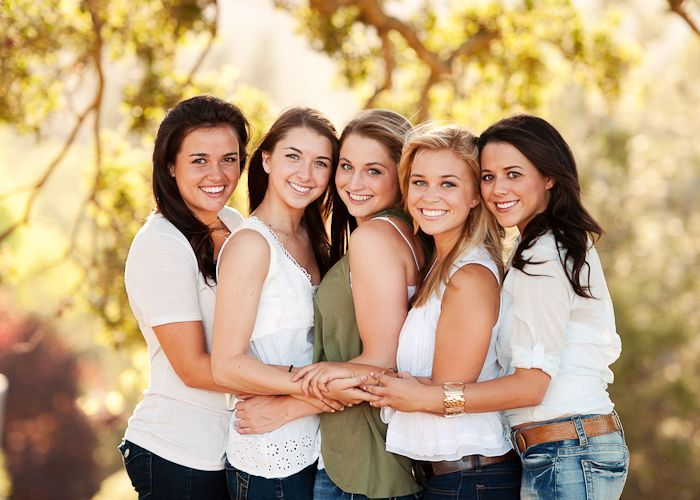bare: (266, 164, 329, 214), (173, 169, 240, 213), (479, 186, 545, 229), (333, 177, 394, 219), (407, 192, 465, 236)
